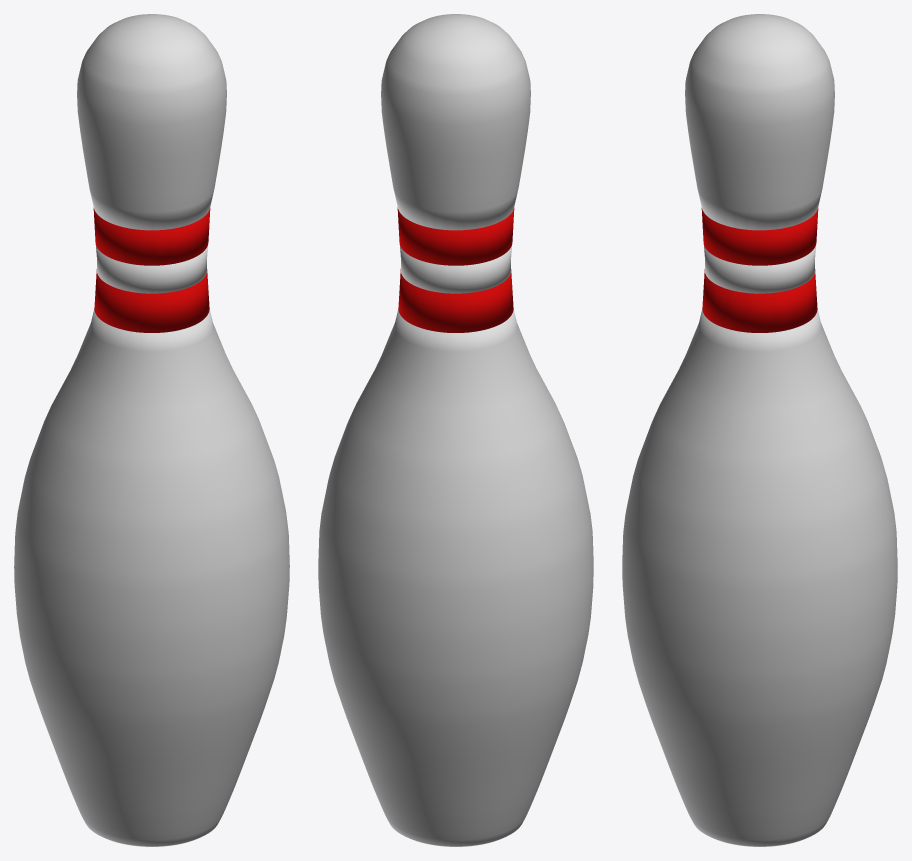
The model's file is bowling_pin.dae.
The picture shows the model from 3 angles, left to right: view 1: azimuth 30°, elevation 25°; view 2: azimuth 150°, elevation 25°; view 3: azimuth 270°, elevation 25°; orthographic projection.
Visible parts, largest first — view 1: pin_New_Material_3; view 2: pin_New_Material_3; view 3: pin_New_Material_3.
Boxes of the visible parts, box(x1,y1,x2,y2) form: pin_New_Material_3: box(14, 14, 289, 846); pin_New_Material_3: box(318, 14, 593, 846); pin_New_Material_3: box(622, 14, 897, 846).
Size of the model in its own units: 0.6505 by 0.6505 by 2.08.
